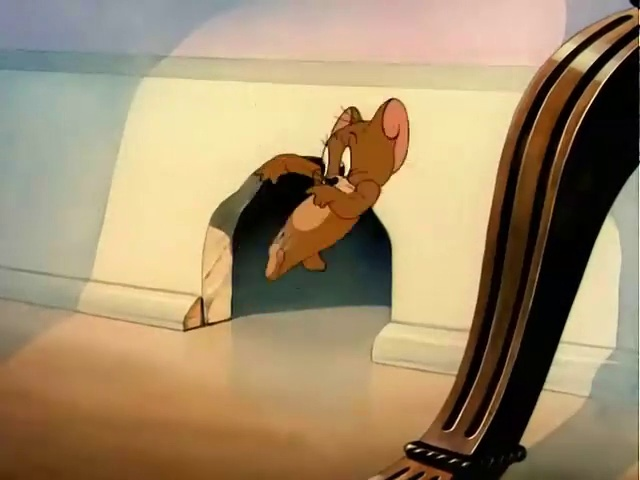jerry: (218, 81, 421, 285)
